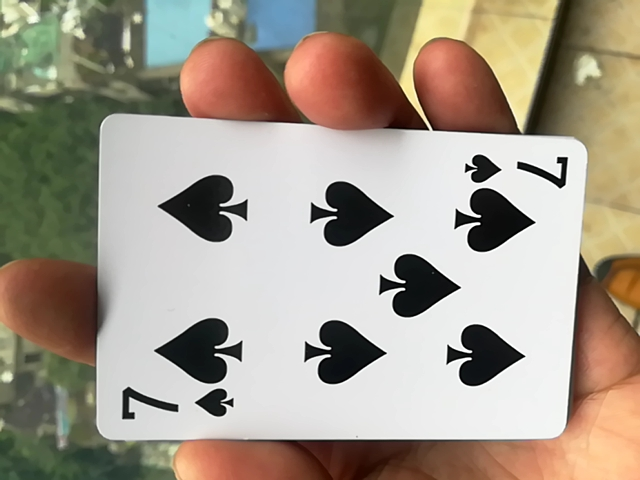ht 7: (83, 114, 578, 455)
